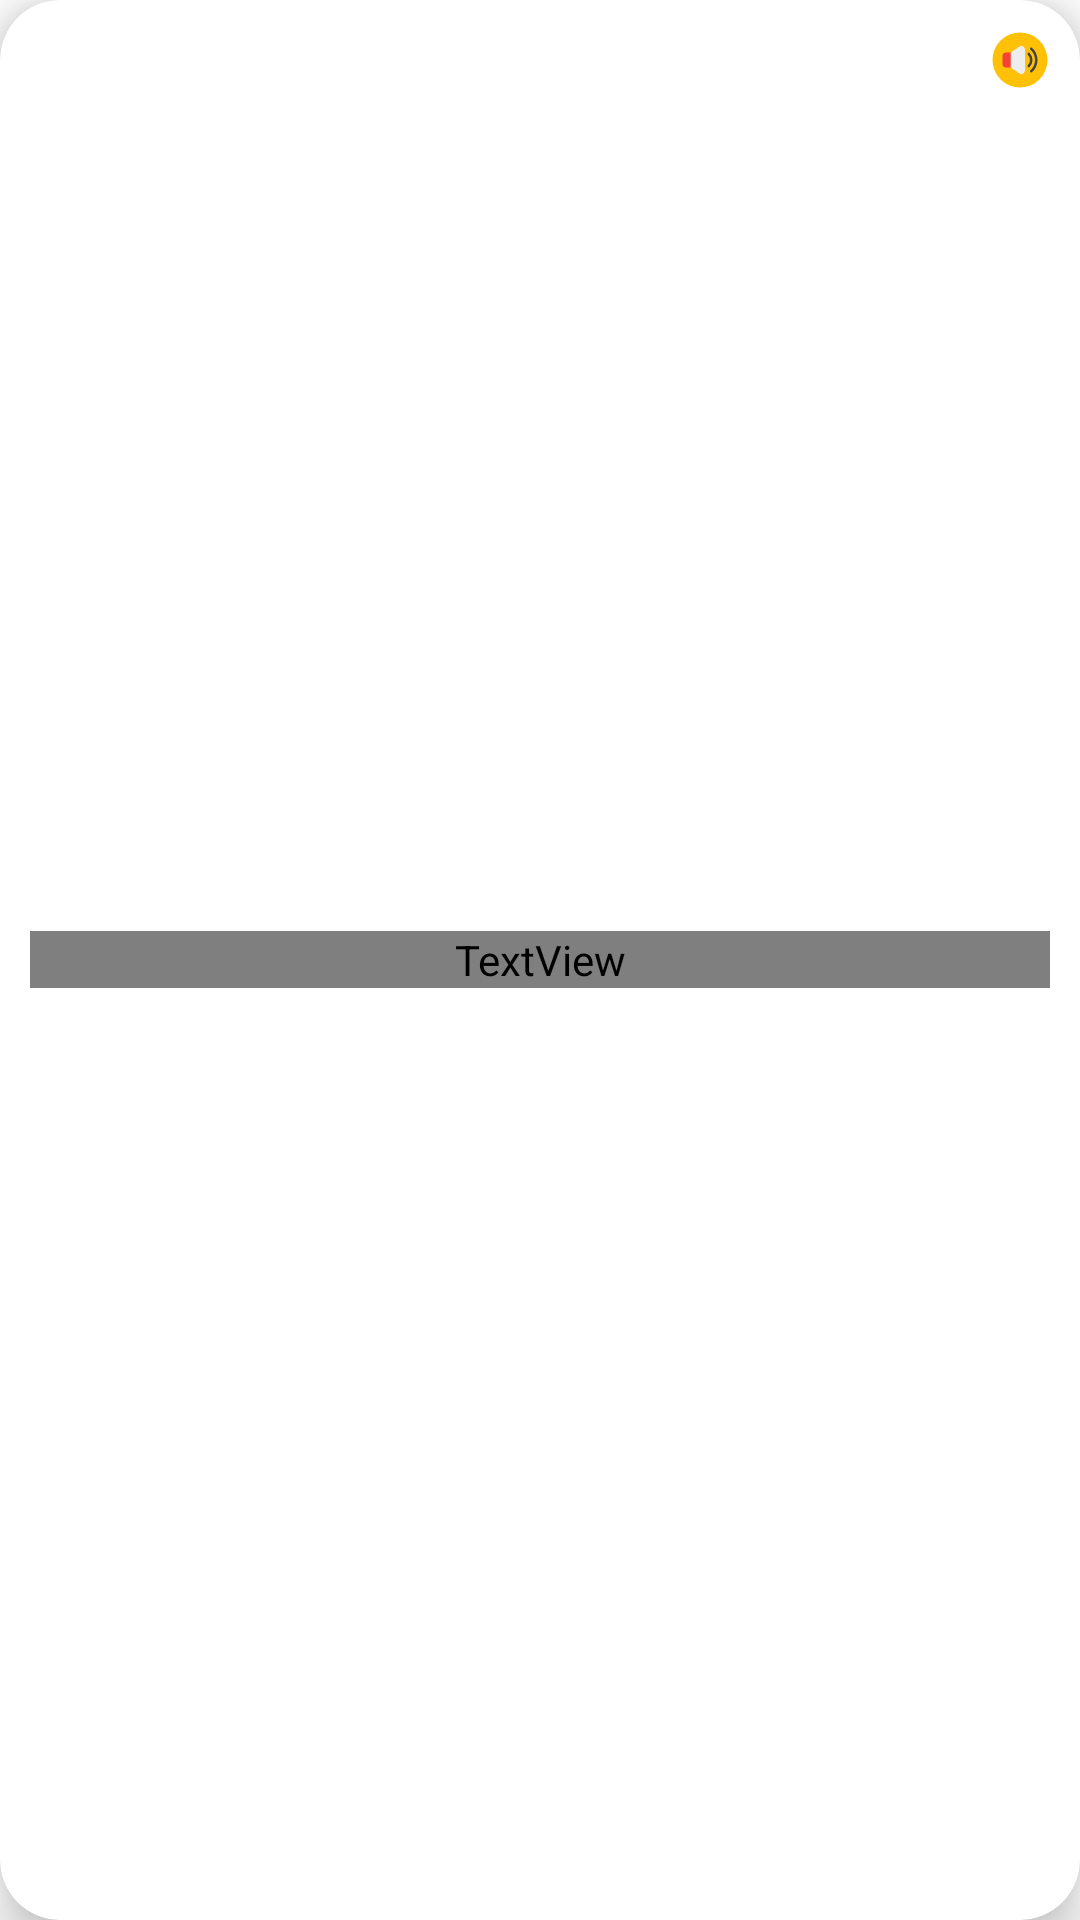

Icons on this 1080x1920 Android screen, each with the point to tap as point (x, y):
sound: point (1020, 60)
